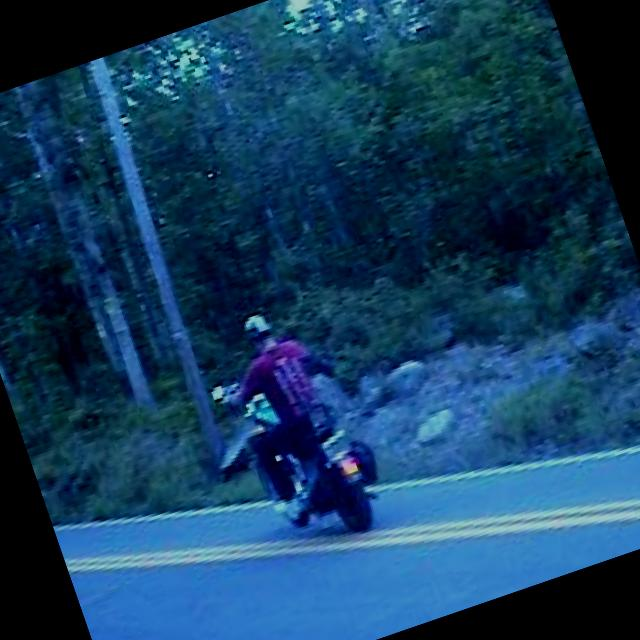Vehicle: (209, 348, 386, 560)
